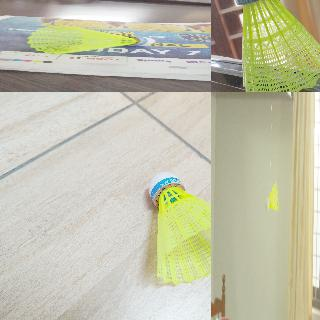shuttlecock: (230, 0, 319, 91), (141, 171, 210, 285), (27, 25, 154, 54), (265, 181, 278, 211)
